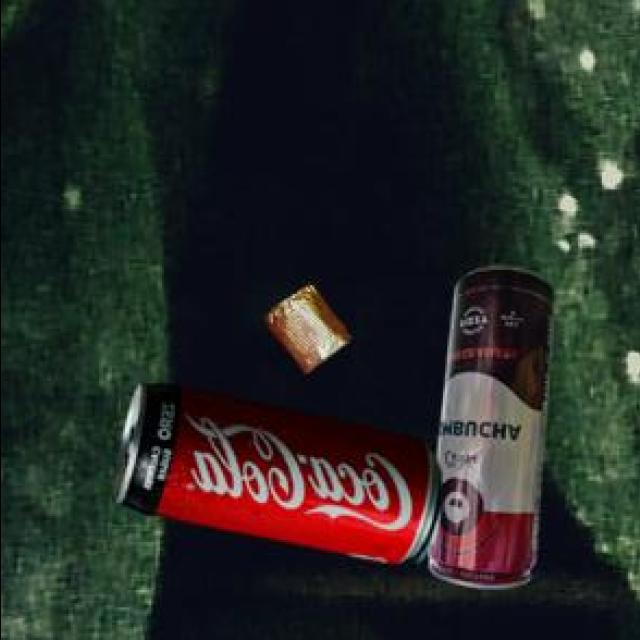logam: (111, 380, 436, 563), (423, 262, 550, 584), (262, 282, 345, 369)
